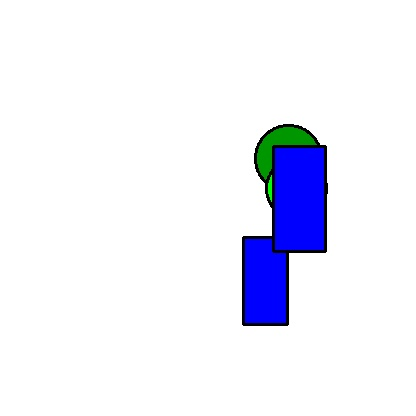circle: (266, 130, 327, 246), (244, 125, 333, 191)
rectangle: (273, 146, 325, 251), (243, 237, 287, 324)
